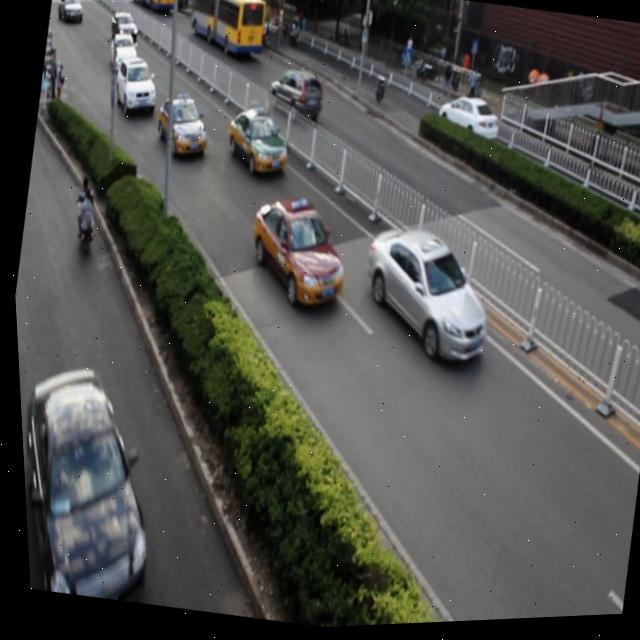car: (15, 357, 174, 605), (347, 219, 500, 374), (236, 188, 355, 319), (219, 105, 294, 185), (148, 90, 214, 164), (429, 92, 501, 156), (262, 66, 326, 126), (108, 57, 162, 121), (104, 33, 141, 77), (107, 8, 141, 49)
van: (182, 0, 273, 66)
